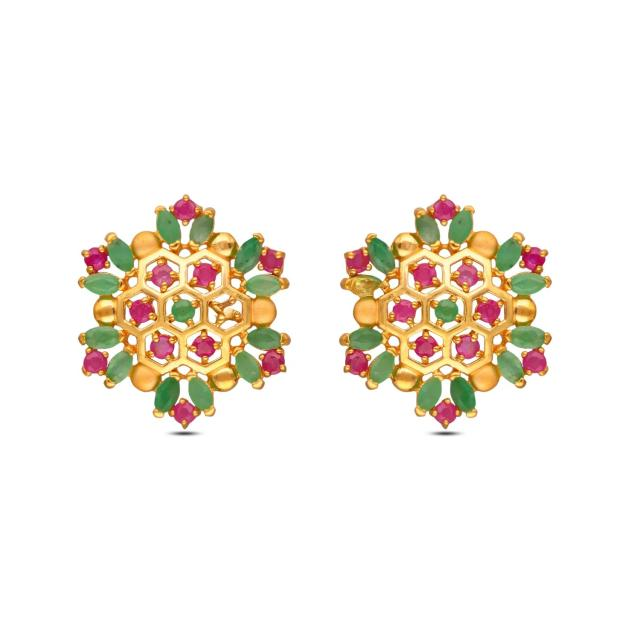missing gem: (346, 275, 383, 295), (214, 299, 238, 324)
